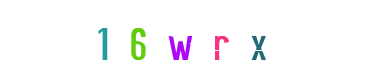1: (97, 0, 177, 80)
6: (140, 0, 220, 80)
R: (153, 0, 233, 80)
W: (150, 0, 230, 80)
X: (179, 0, 259, 80)
